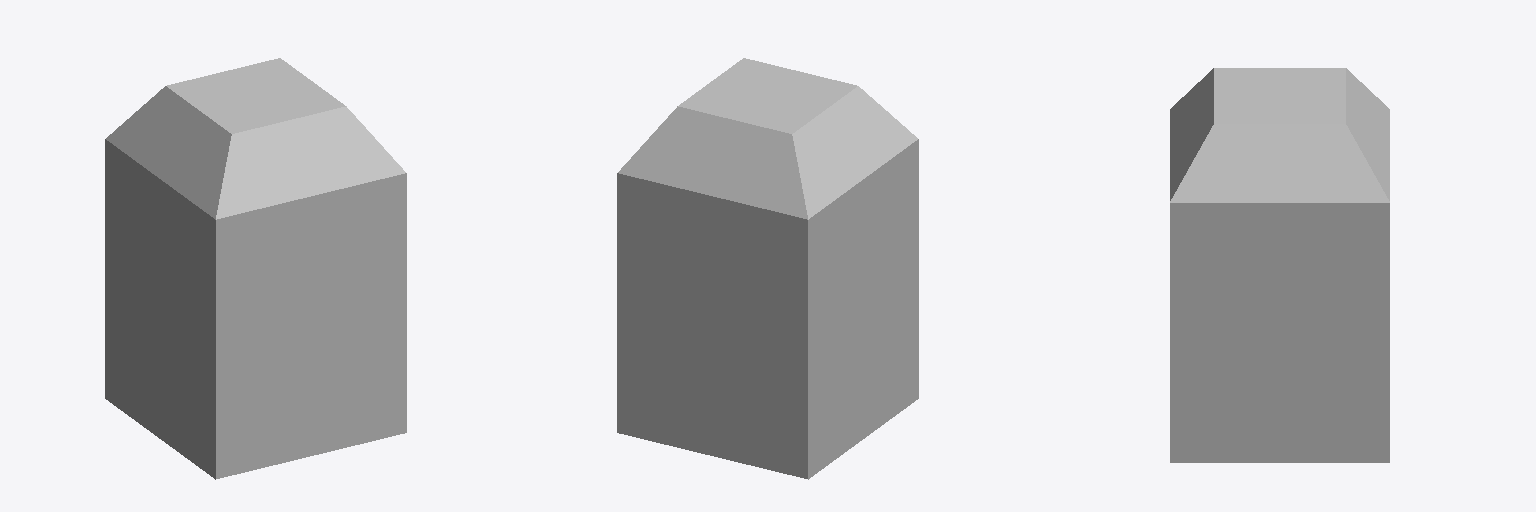
The model's file is Column_Bottom_Type1.001.obj.
3 renders of one model, left to right at view 1: azimuth 30°, elevation 25°; view 2: azimuth 150°, elevation 25°; view 3: azimuth 270°, elevation 25°, orthographic.
Visible parts, largest first — view 1: Column_Bottom_Type1.001_Cube.094; view 2: Column_Bottom_Type1.001_Cube.094; view 3: Column_Bottom_Type1.001_Cube.094.
Part boxes in pixels (bbox=[...]): Column_Bottom_Type1.001_Cube.094: bbox=[105, 58, 406, 479]; Column_Bottom_Type1.001_Cube.094: bbox=[617, 58, 918, 479]; Column_Bottom_Type1.001_Cube.094: bbox=[1170, 68, 1389, 462].
Bounding box in the file's own units: 0.625 × 1 × 0.625.